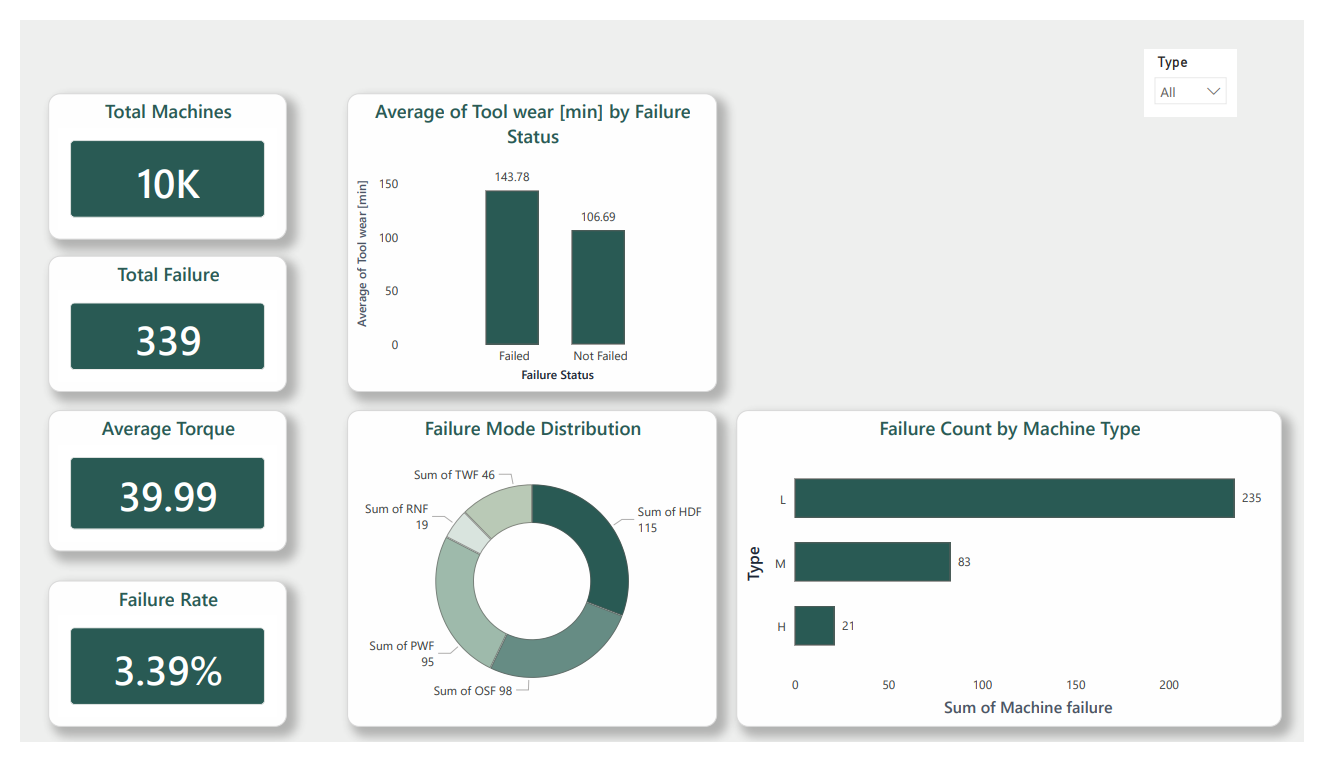

The dashboard page shown, as its layout file describes it:
{"tool":"powerbi","page":{"name":"Page 1","canvas":[1280,720],"ordinal":0},"visuals":[{"type":"barChart","title":"Failure Count by Machine Type","fields":{"Category":["ai4i2020.Type"],"Y":["Sum(ai4i2020.Machine failure)"]},"box":[713.7,389,544.6,316.3],"z":0},{"type":"donutChart","title":"Failure Mode Distribution","fields":{"Y":["Sum(ai4i2020.HDF)","Sum(ai4i2020.OSF)","Sum(ai4i2020.PWF)","Sum(ai4i2020.RNF)","Sum(ai4i2020.TWF)"]},"box":[326.2,388.8,368.8,316.2],"z":1000},{"type":"clusteredColumnChart","fields":{"Y":["Avg(ai4i2020.Tool wear [min])"],"Category":["ai4i2020.Failure Status"]},"box":[326.2,72.5,368.8,298.8],"z":2000},{"type":"cardVisual","title":"Total Machines","fields":{"Data":["CountNonNull(ai4i2020.Product ID)"]},"box":[27.5,72.5,238.8,146.2],"z":3000},{"type":"cardVisual","title":"Total Failure","fields":{"Data":["ai4i2020.Failed Machines"]},"box":[27.5,235,238.8,136.2],"z":4000},{"type":"cardVisual","title":"Average Torque","fields":{"Data":["Avg(ai4i2020.Torque [Nm])"]},"box":[27.5,388.8,238.8,141.2],"z":5000},{"type":"cardVisual","title":"Failure Rate","fields":{"Data":["ai4i2020.Failure Rate"]},"box":[27.5,558.8,238.8,146.2],"z":6000},{"type":"slicer","fields":{"Values":["ai4i2020.Type"]},"box":[1121.2,28.8,91.2,67.5],"z":7000}]}

Visuals, with their boxes in screenshot pixels (x1, y1, x2, y2), scaled from the page's 1280x720 canvas onto the 1325x761 screenshot:
"Failure Count by Machine Type" barChart: (739,411,1303,745)
"Failure Mode Distribution" donutChart: (338,411,719,745)
clusteredColumnChart - Avg(ai4i2020.Tool wear [min]) x ai4i2020.Failure Status: (338,77,719,392)
"Total Machines" cardVisual: (28,77,276,231)
"Total Failure" cardVisual: (28,248,276,392)
"Average Torque" cardVisual: (28,411,276,560)
"Failure Rate" cardVisual: (28,591,276,745)
slicer - ai4i2020.Type: (1161,30,1255,102)
